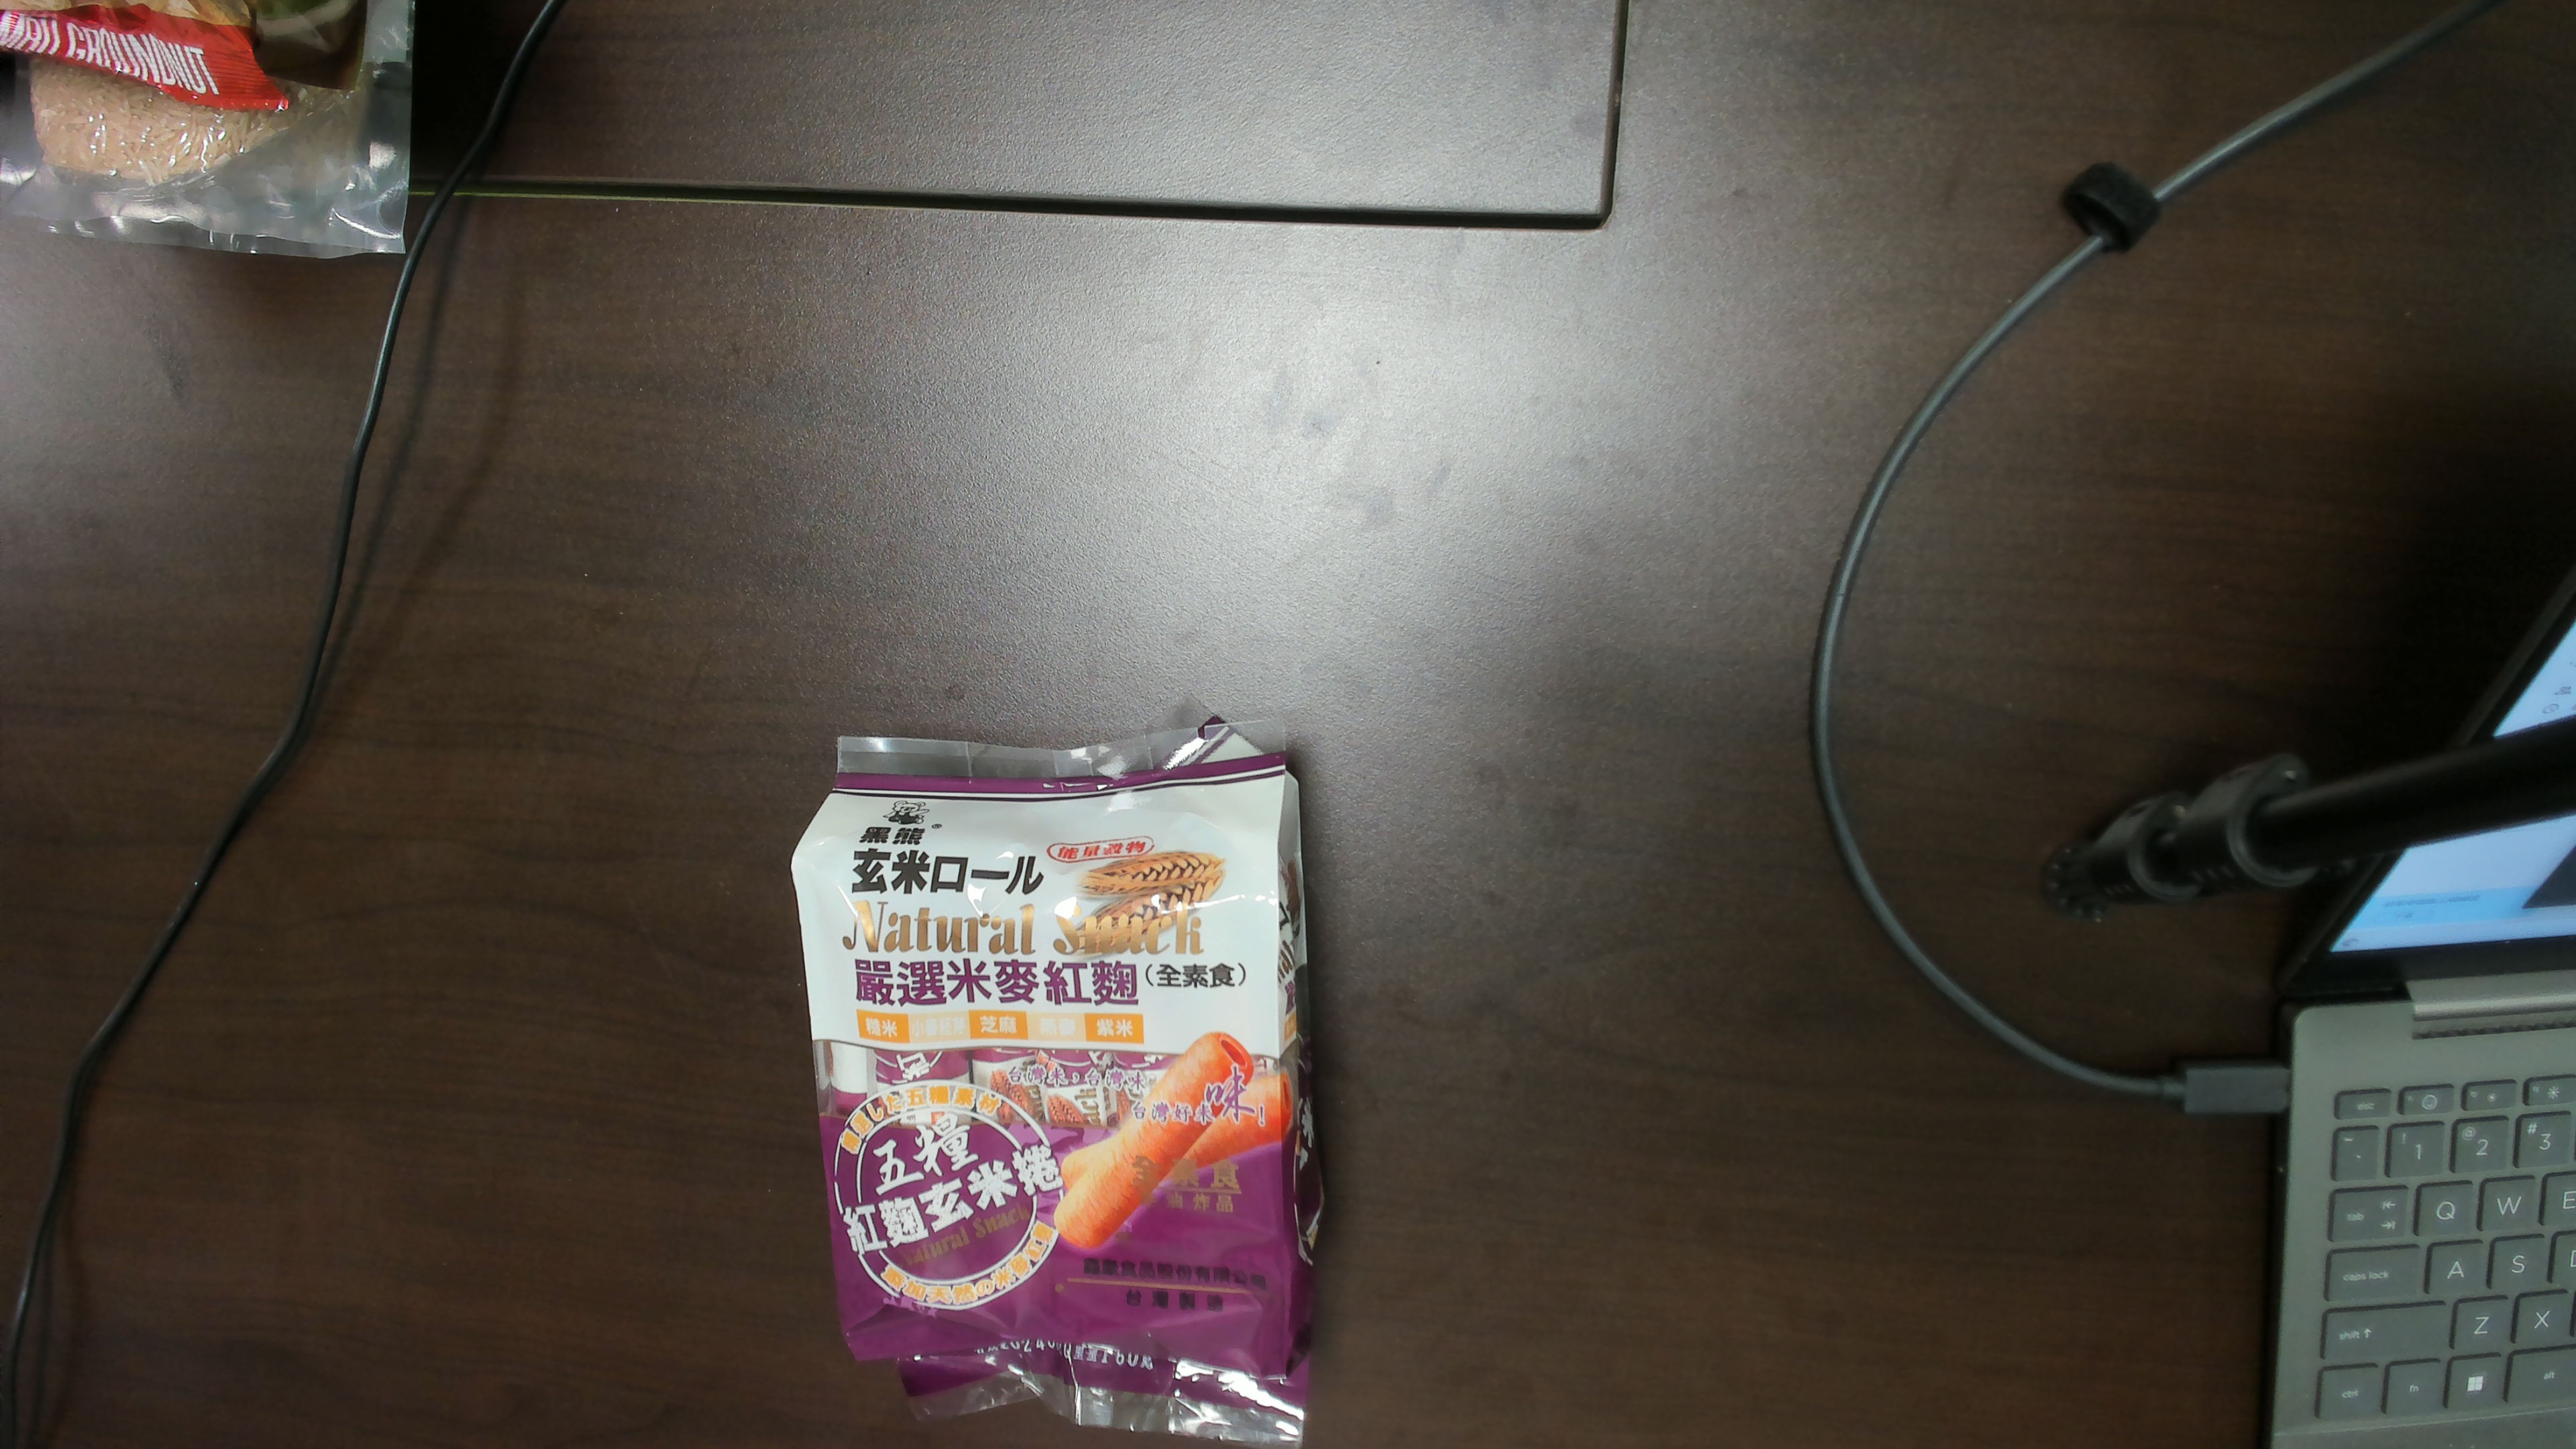BiscuitsCrackersCookies_100-199g_NonHalal_NonHealthy: (830, 832, 1269, 1313)
